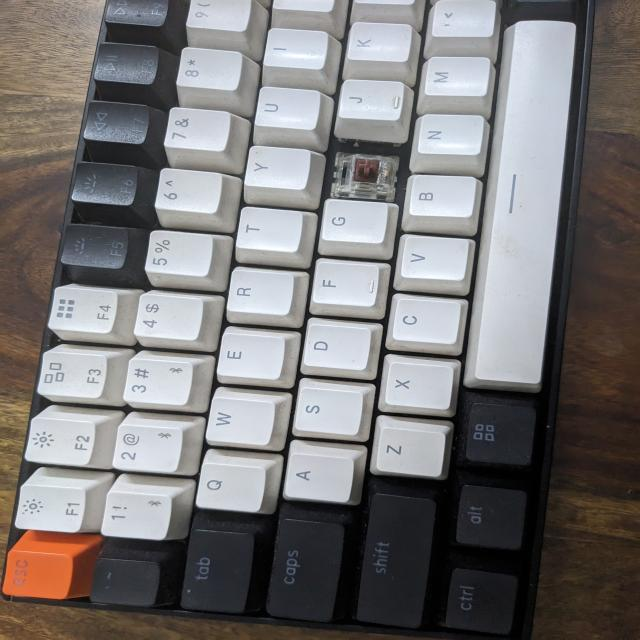C: (331, 145, 397, 200)
